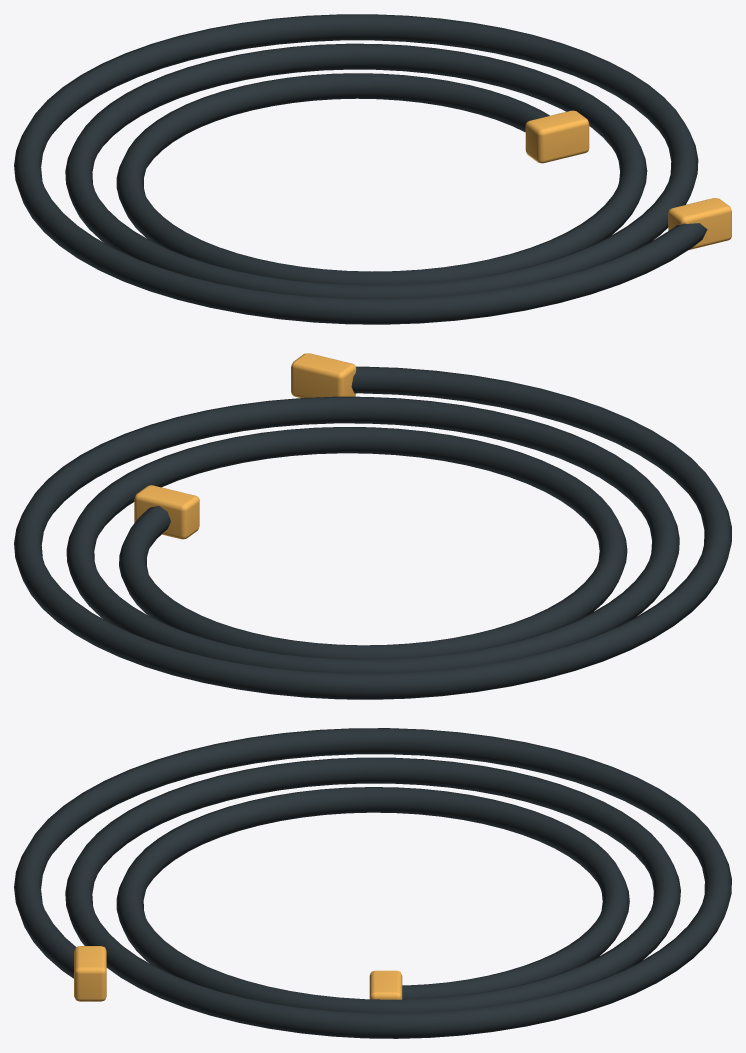
The model's file is SM_FE_CableCoil.fbx.
The picture shows the model from 3 angles, top to bottom: view 1: azimuth 30°, elevation 25°; view 2: azimuth 150°, elevation 25°; view 3: azimuth 270°, elevation 25°; orthographic projection. The views are drawn at different scales.
Visible parts, largest first — view 1: SM_FE_CableCoil; view 2: SM_FE_CableCoil; view 3: SM_FE_CableCoil.
Part boxes in pixels (<box>): SM_FE_CableCoil: <box>14,14,731,324</box>; SM_FE_CableCoil: <box>14,353,731,699</box>; SM_FE_CableCoil: <box>14,728,731,1038</box>.
Bounding box in the file's own units: 127 × 132 × 11.47.
